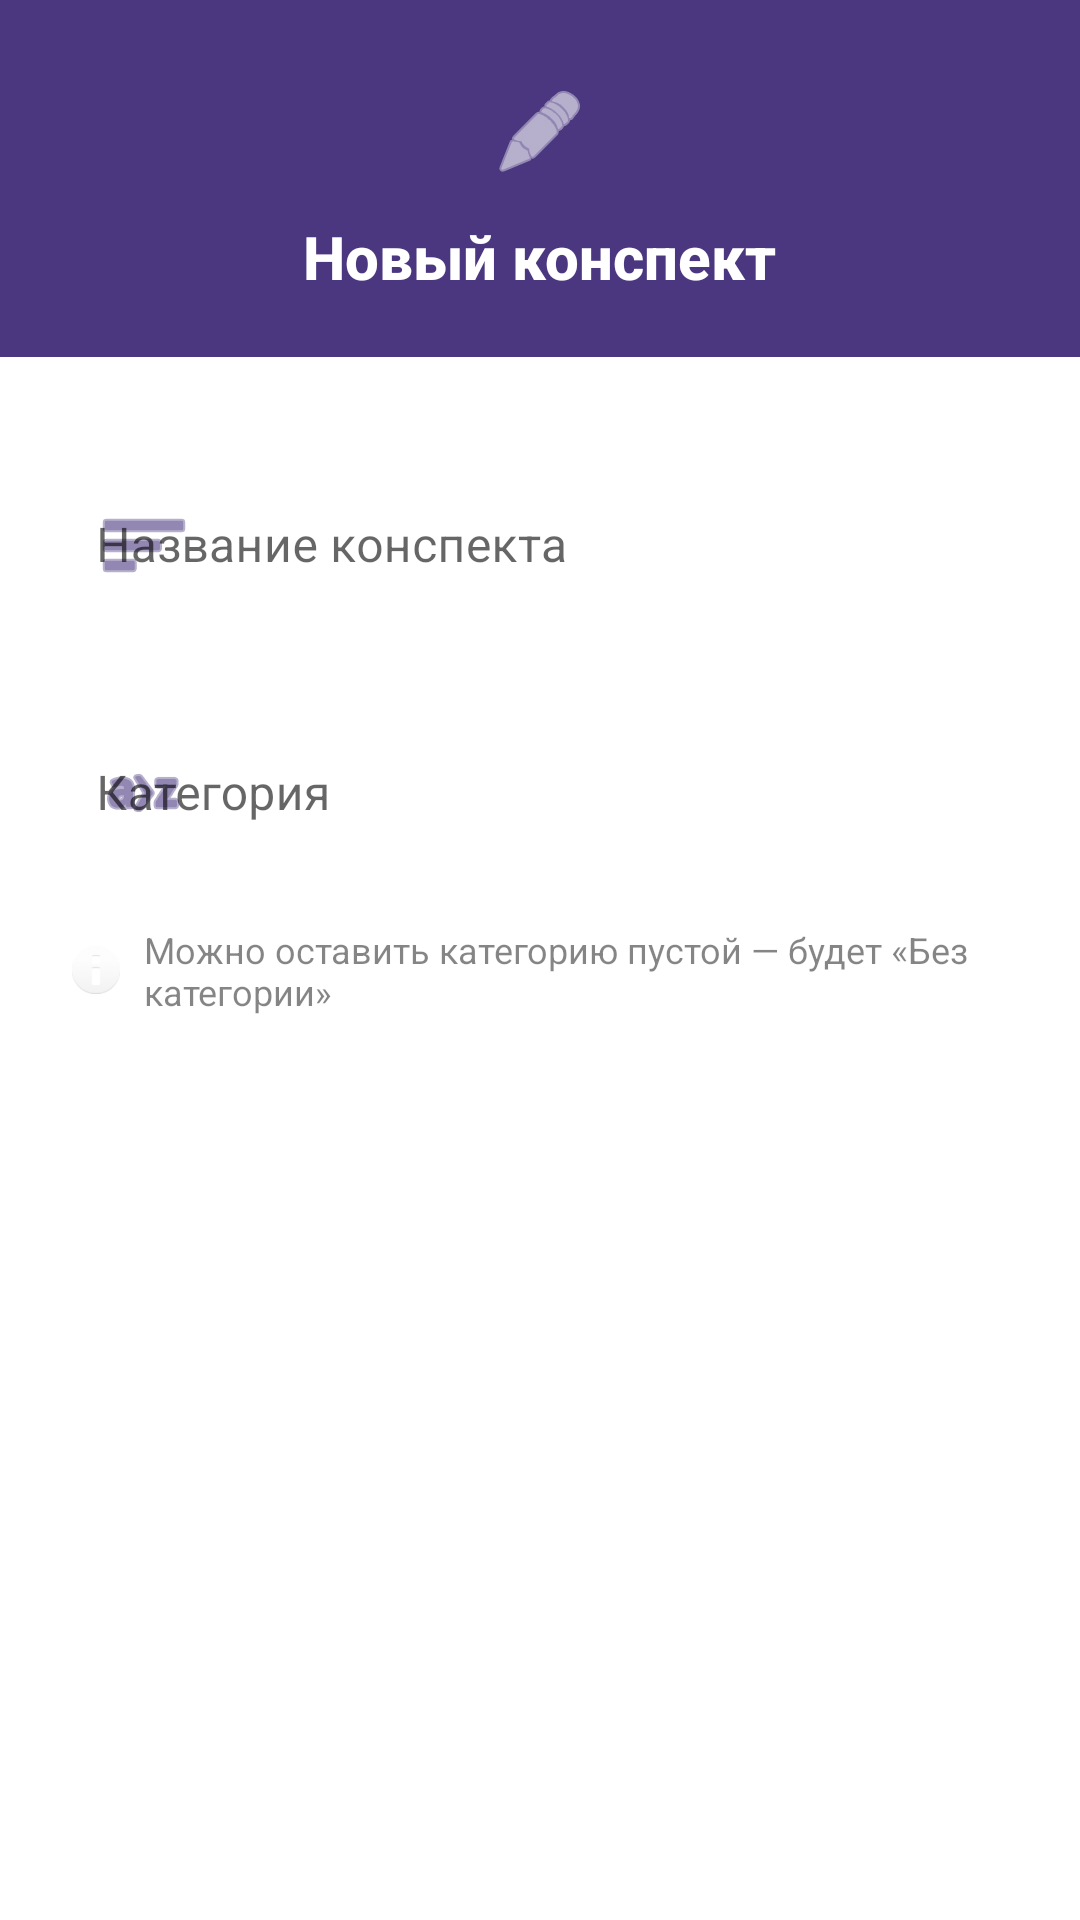

Named icons in this screenshot (1080 × 1920) and their centers, [x,y]:
Новая заметка: [539,131]
